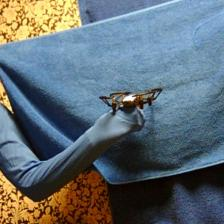drone: (99, 88, 164, 114)
